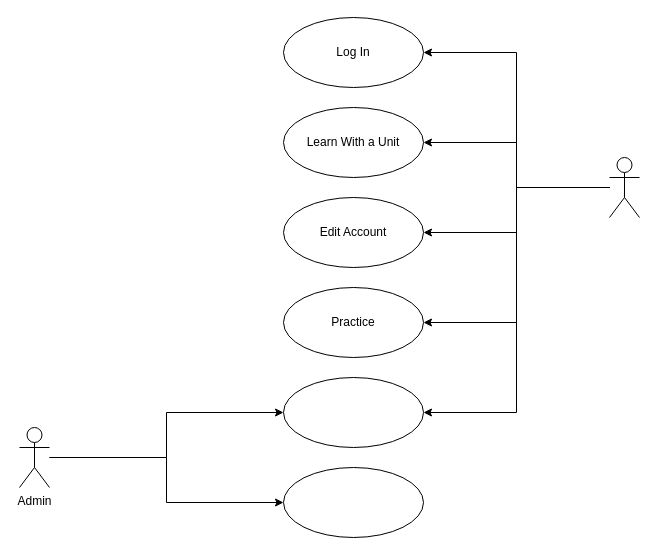
The diagram is 657 pixels wide and 555 high, and some of its shapes have lost their labels. The centre of each missing label's shape, as x and y in pixels:
Create Blog Post: pixel 353 502
User: pixel 624 187
View Blog: pixel 353 412
